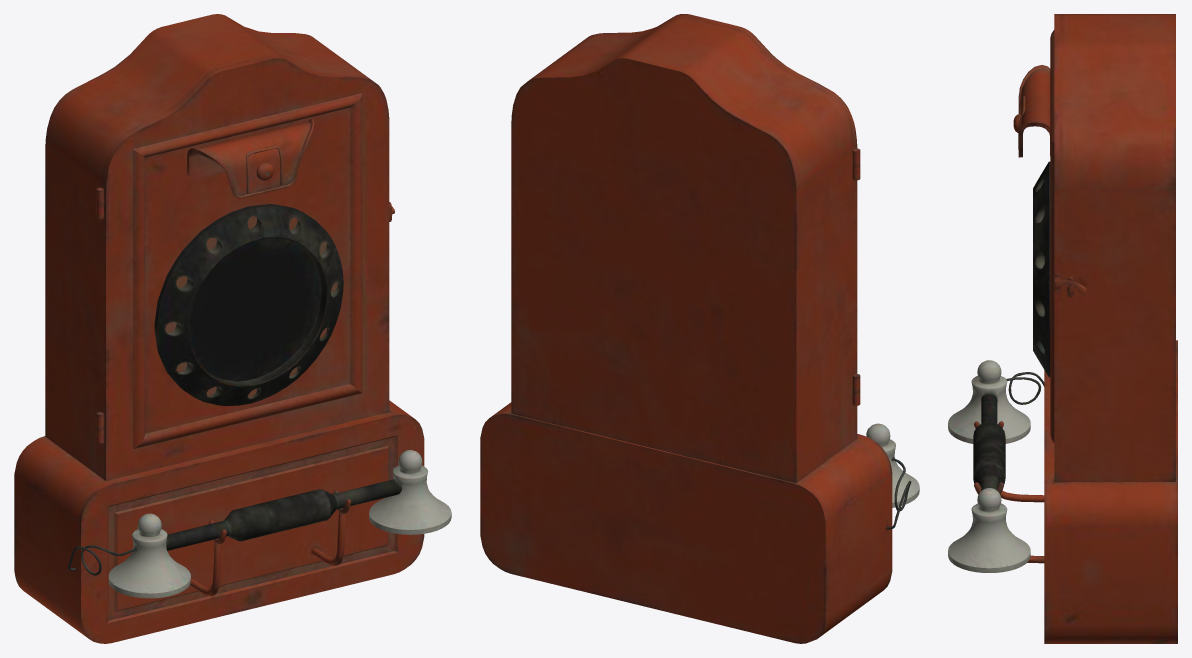
File: vintage_telephone_wall_clock.glb
3 renders of one model, left to right at view 1: azimuth 30°, elevation 25°; view 2: azimuth 150°, elevation 25°; view 3: azimuth 270°, elevation 25°, orthographic.
Bounding box in the file's own units: 0.3427 × 0.5012 × 0.1926.
Materials: 2 (2 with a texture image).
